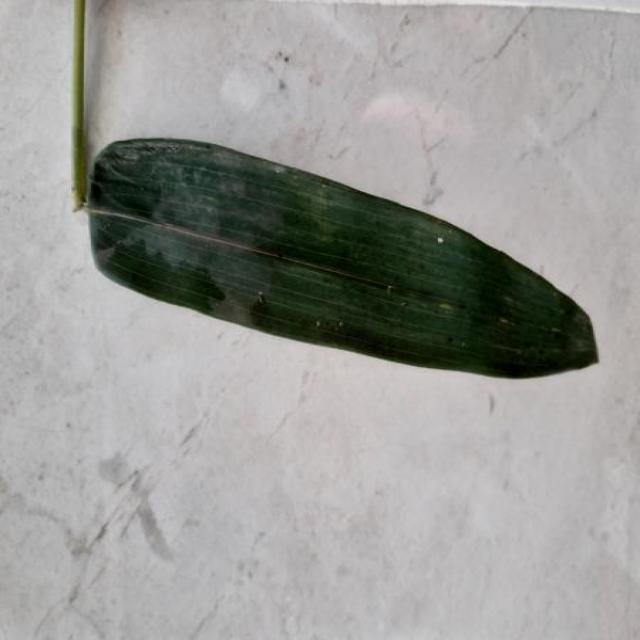Bamboo: (88, 139, 597, 378)
